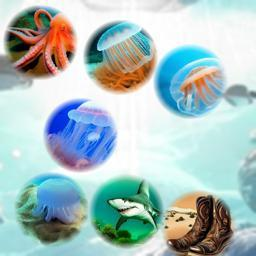not an animal: (170, 195, 236, 255)
